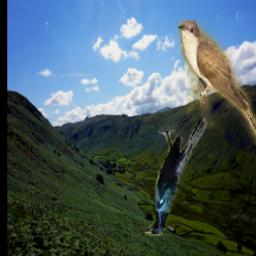Crow: (143, 117, 206, 237)
Cuckoo: (179, 21, 256, 150)
